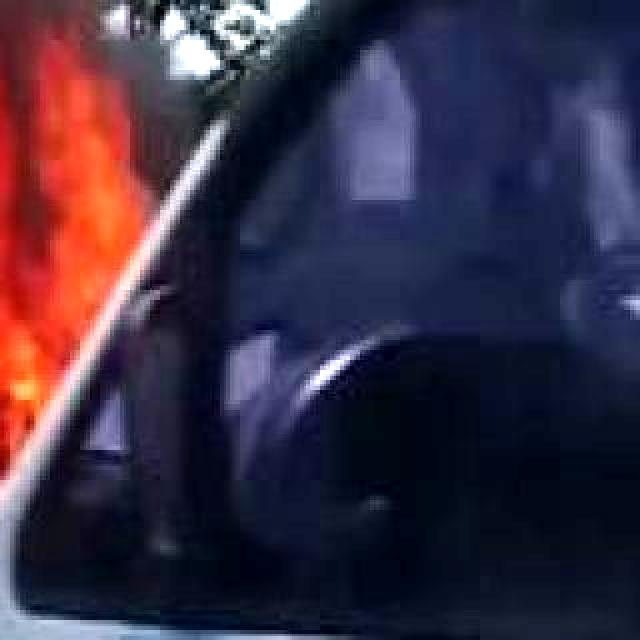fire: (0, 0, 150, 512)
